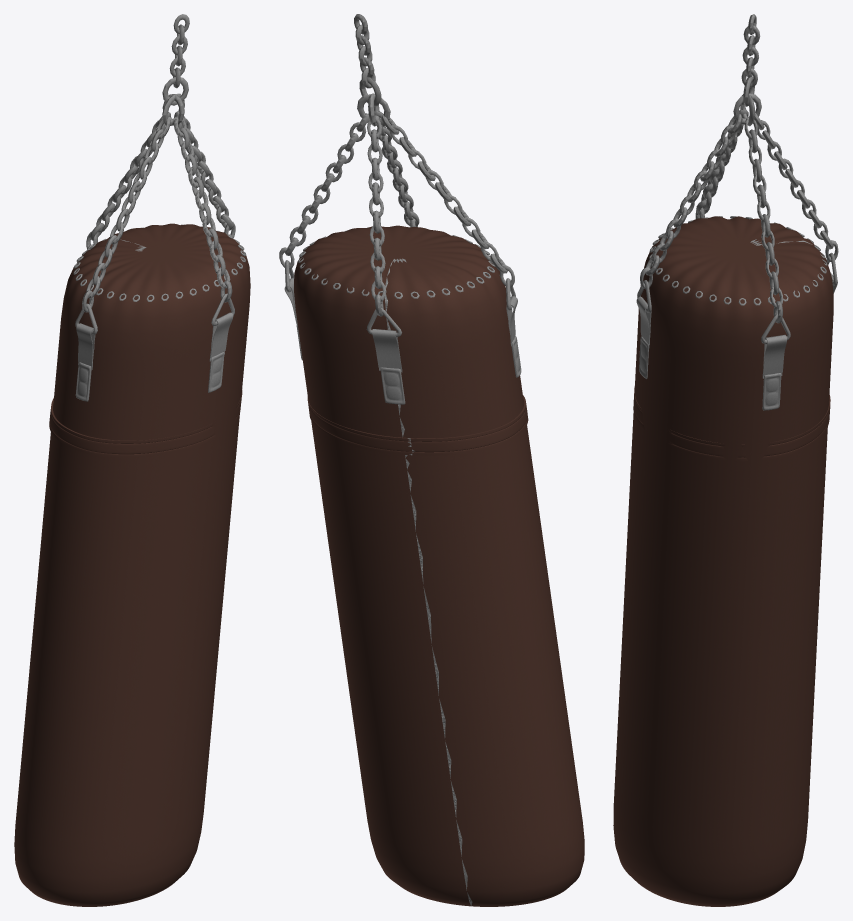
File: boxingbag.fbx
3 renders of one model, left to right at view 1: azimuth 30°, elevation 25°; view 2: azimuth 150°, elevation 25°; view 3: azimuth 270°, elevation 25°, orthographic. The views are drawn at different scales.
Visible parts, largest first — view 1: boxingbag; view 2: boxingbag; view 3: boxingbag.
Boxes of the visible parts, box(x1,y1,x2,y2) form: boxingbag: box(14, 14, 250, 906); boxingbag: box(279, 14, 584, 906); boxingbag: box(613, 14, 838, 906).
Size of the model in its own units: 28.09 by 89.56 by 20.07.
